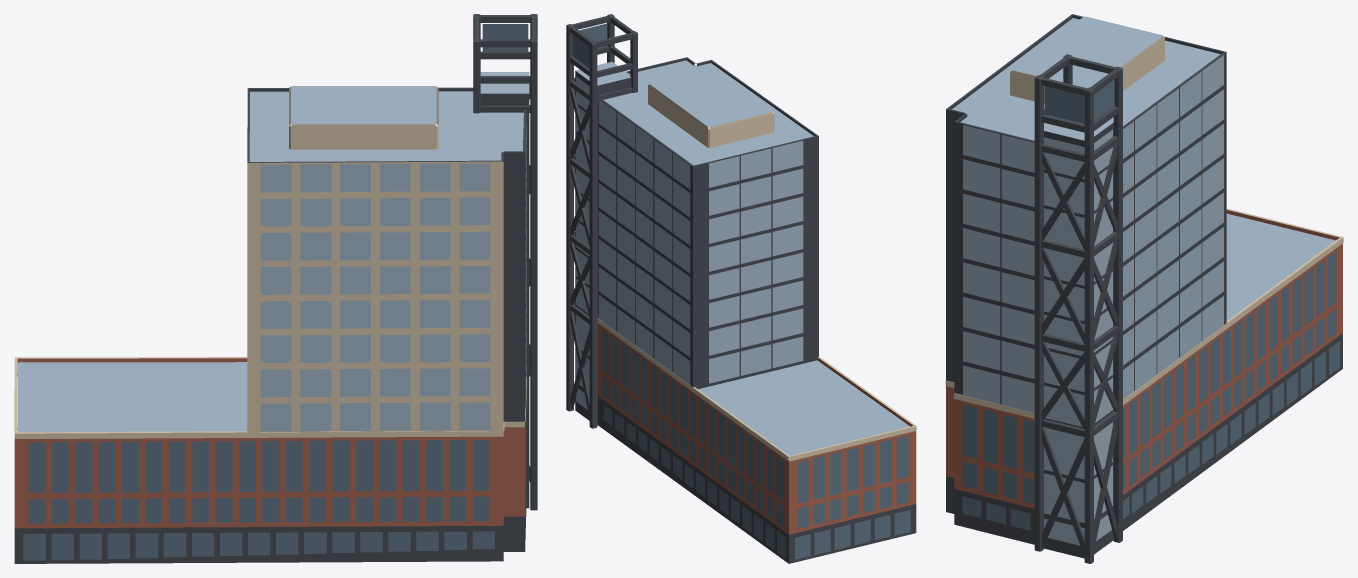
3 renders of one model, left to right at view 1: azimuth 30°, elevation 25°; view 2: azimuth 150°, elevation 25°; view 3: azimuth 270°, elevation 25°, orthographic. The views are drawn at different scales.
Parts seen in each view (by area): view 1: design-center-tower; view 2: design-center-tower; view 3: design-center-tower.
Part boxes in pixels (x1=…): design-center-tower: x1=14, y1=14, x2=537, y2=563; design-center-tower: x1=566, y1=14, x2=916, y2=563; design-center-tower: x1=945, y1=14, x2=1343, y2=563.
Size of the model in its own units: 117 by 111 by 84.45.
